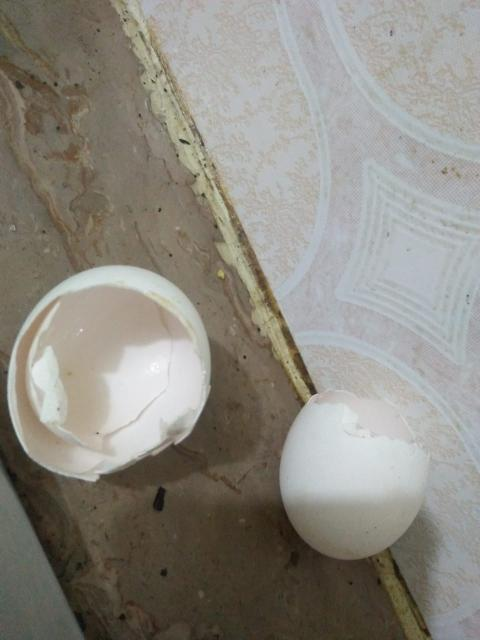Roto: (6, 263, 212, 482), (278, 388, 430, 561)
